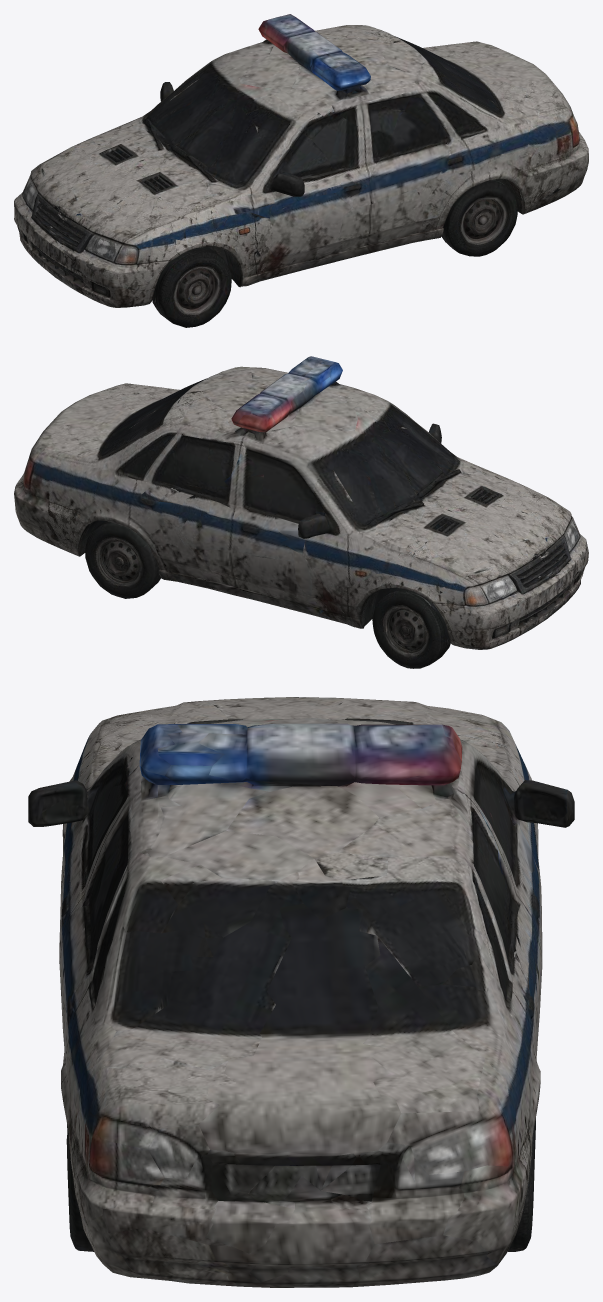
The model's file is patrol2.glb.
The picture shows the model from 3 angles, top to bottom: view 1: azimuth 30°, elevation 25°; view 2: azimuth 150°, elevation 25°; view 3: azimuth 270°, elevation 25°; orthographic projection. The views are drawn at different scales.
Bounding box in the file's own units: 148 × 55.61 × 68.79.
1 material, 1 textured.
